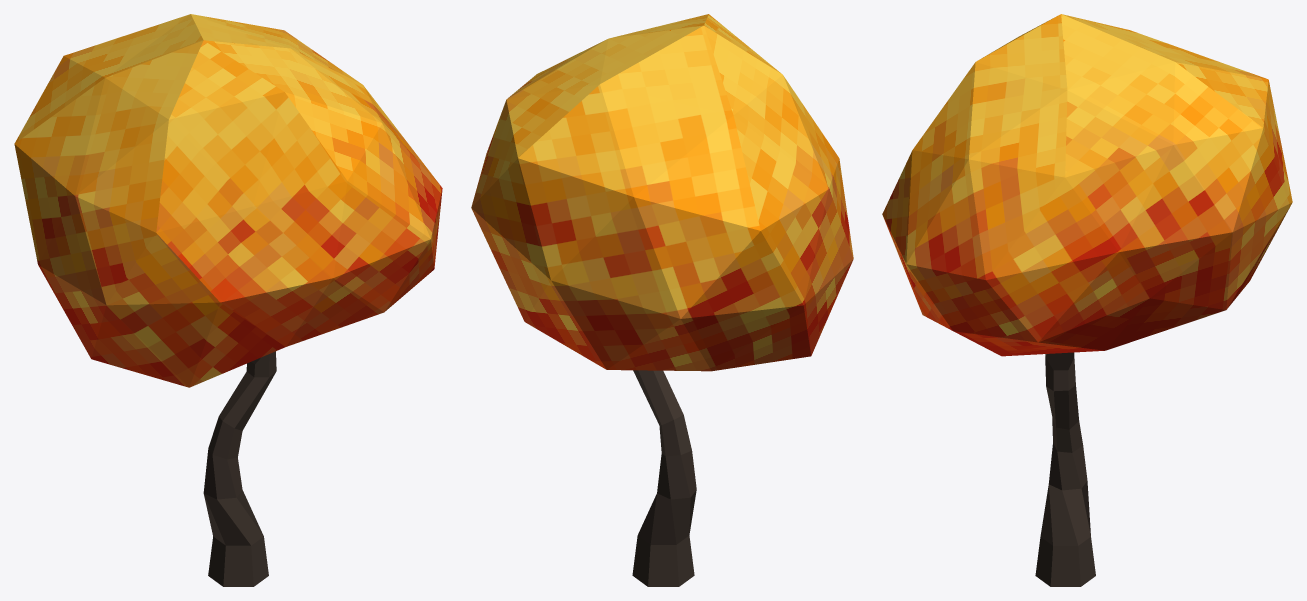
Rendered from tree1.glb.
The picture shows the model from 3 angles, left to right: view 1: azimuth 30°, elevation 25°; view 2: azimuth 150°, elevation 25°; view 3: azimuth 270°, elevation 25°; orthographic projection. The views are drawn at different scales.
Parts seen in each view (by area): view 1: Icosphere, Cylinder; view 2: Icosphere, Cylinder; view 3: Icosphere, Cylinder.
Boxes of the visible parts, <box> form: Icosphere: <box>14,14,442,387</box>; Cylinder: <box>203,351,276,586</box>; Icosphere: <box>471,14,853,371</box>; Cylinder: <box>632,370,696,586</box>; Icosphere: <box>882,14,1292,356</box>; Cylinder: <box>1035,352,1095,586</box>.
Bounding box in the file's own units: 12.62 × 19.79 × 13.54.
Materials: 2 (1 with a texture image).
